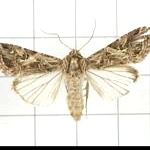Spodoptera litura: (0, 16, 149, 122)
